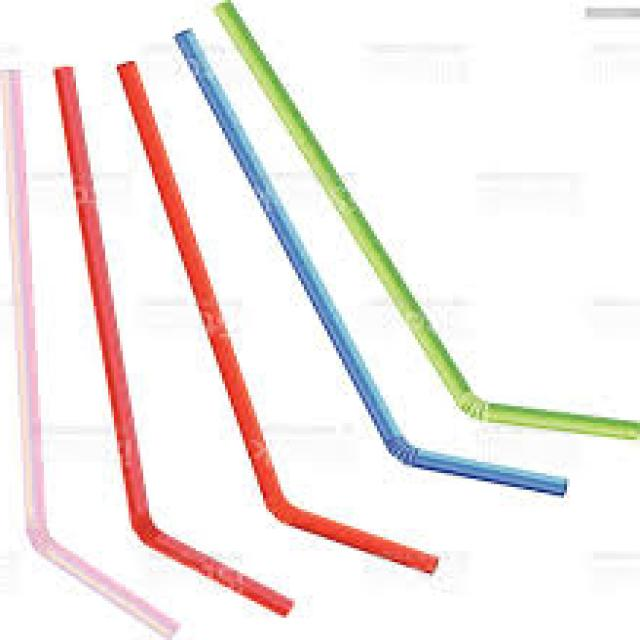straw: (223, 3, 637, 439), (179, 32, 563, 497), (118, 63, 436, 574), (58, 68, 290, 614), (3, 71, 175, 639)
